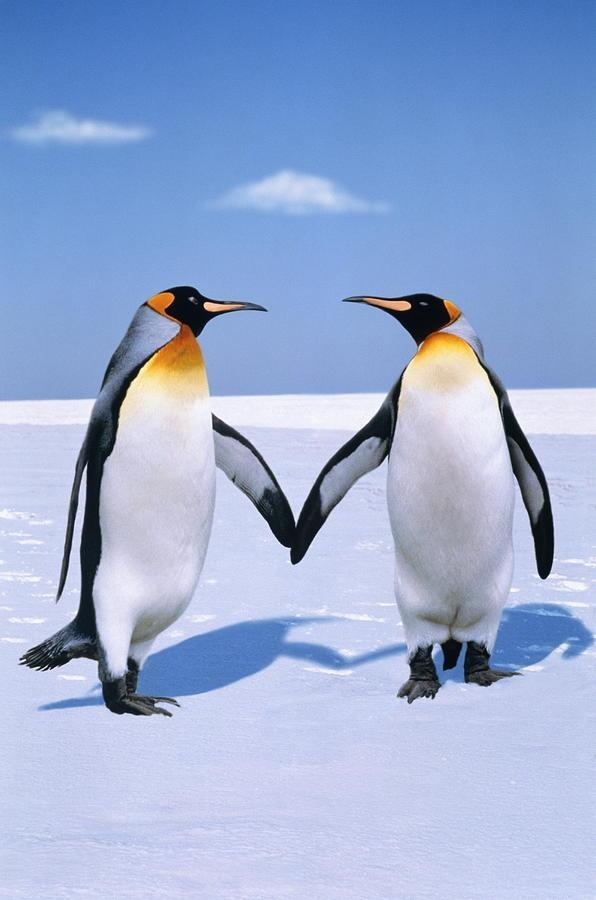Penguin: (21, 287, 293, 715), (292, 294, 553, 702)
